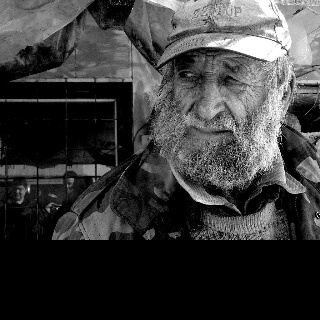without_mask: (171, 44, 274, 153)
